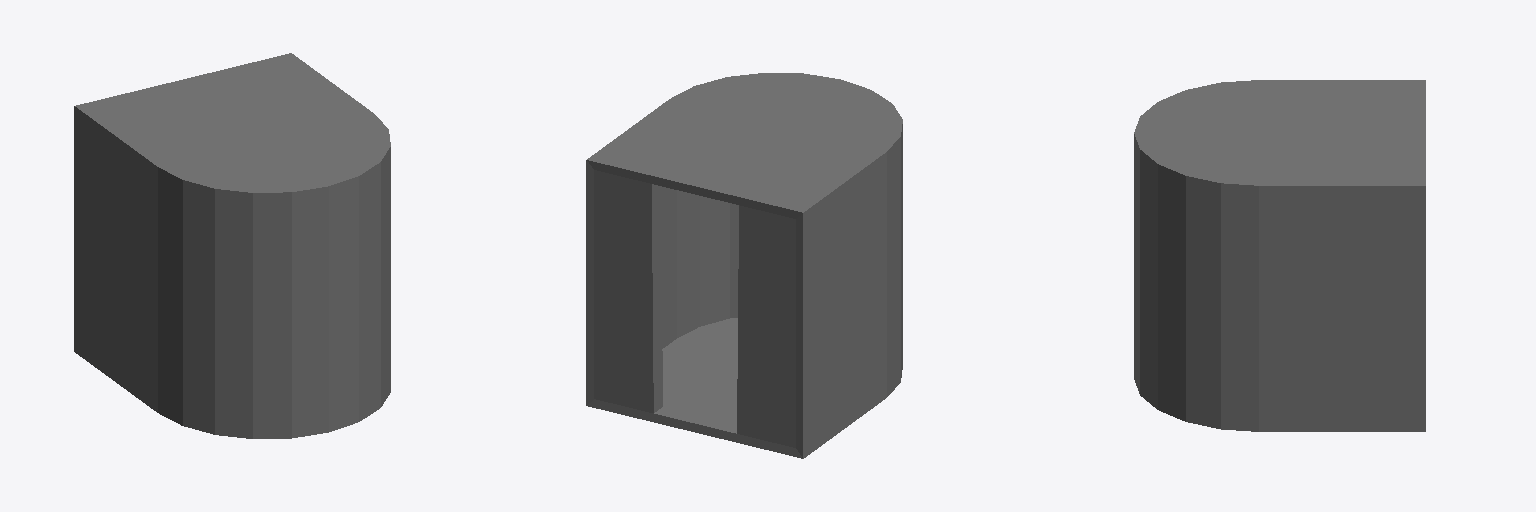
The model's file is elevator_OBJ.obj.
3 views of the same model, side by side, from view 1: azimuth 30°, elevation 25°; view 2: azimuth 150°, elevation 25°; view 3: azimuth 270°, elevation 25° (orthographic).
Visible parts, largest first — view 1: RightElevator LooseAdornments; view 2: RightElevator LooseAdornments; view 3: RightElevator LooseAdornments.
Boxes of the visible parts, box(x1,y1,x2,y2) form: RightElevator LooseAdornments: box(74, 53, 390, 438); RightElevator LooseAdornments: box(586, 73, 902, 458); RightElevator LooseAdornments: box(1134, 80, 1425, 431).
Bounding box in the file's own units: 0.6191 × 0.6711 × 0.7215.